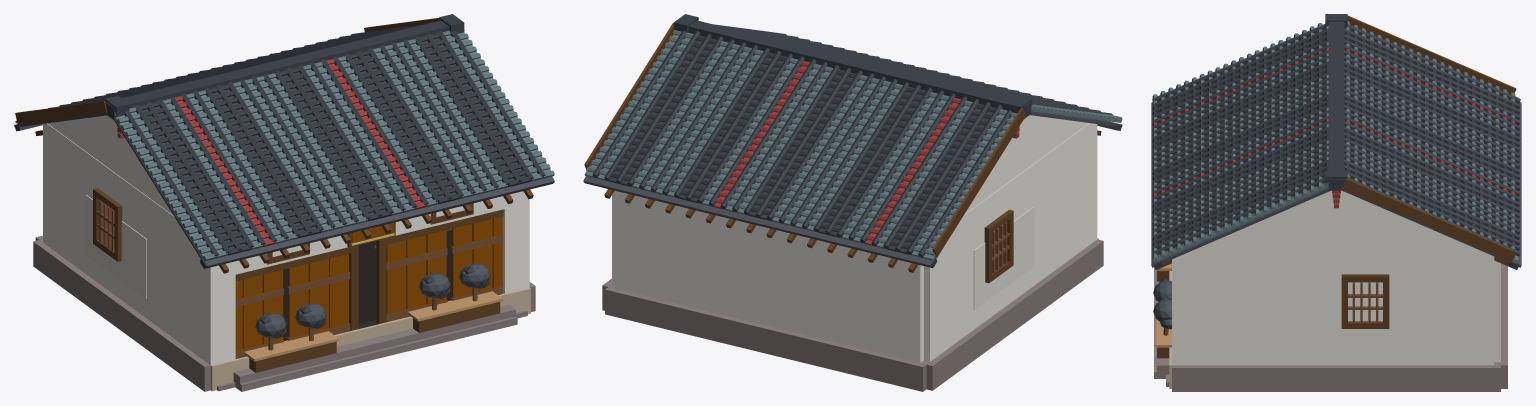
Rendered from lib_lib_house_b1.glb.
The picture shows the model from 3 angles, left to right: view 1: azimuth 30°, elevation 25°; view 2: azimuth 150°, elevation 25°; view 3: azimuth 270°, elevation 25°; orthographic projection. The views are drawn at different scales.
Parts seen in each view (by area): view 1: lhb1_body; view 2: lhb1_body; view 3: lhb1_body.
Part boxes in pixels (x1,y1,x2,y2): lhb1_body: [14, 14, 554, 391]; lhb1_body: [583, 14, 1122, 391]; lhb1_body: [1151, 14, 1521, 391].
Size of the model in its own units: 7.38 by 4.58 by 7.02.
Materials: 1 (1 with a texture image).
